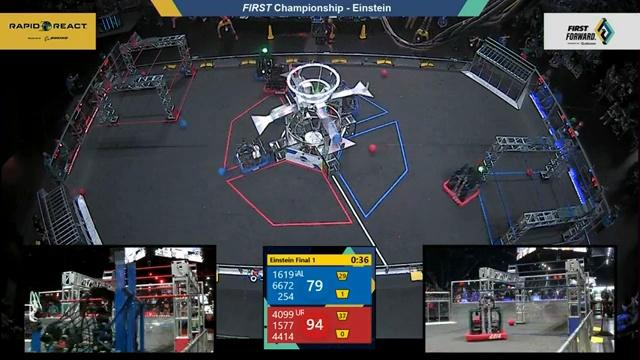robot: (436, 158, 489, 206), (230, 131, 272, 179), (465, 296, 507, 344), (248, 41, 277, 87), (255, 64, 290, 99)
